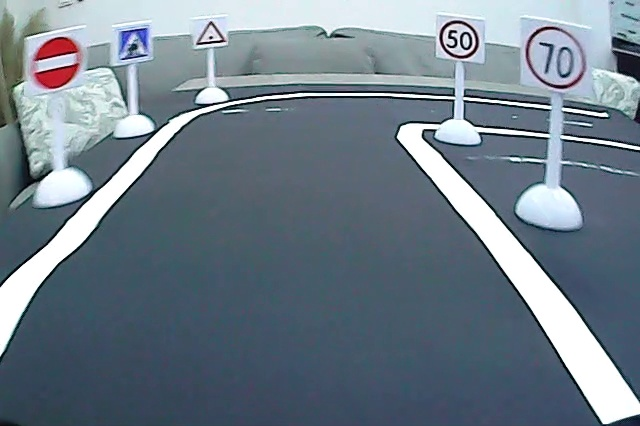do not enter: (29, 33, 85, 93)
green light: (196, 19, 227, 47)
school crossing: (116, 25, 152, 63)
speed limit 50: (438, 17, 483, 62)
speed limit 70: (523, 23, 589, 93)
